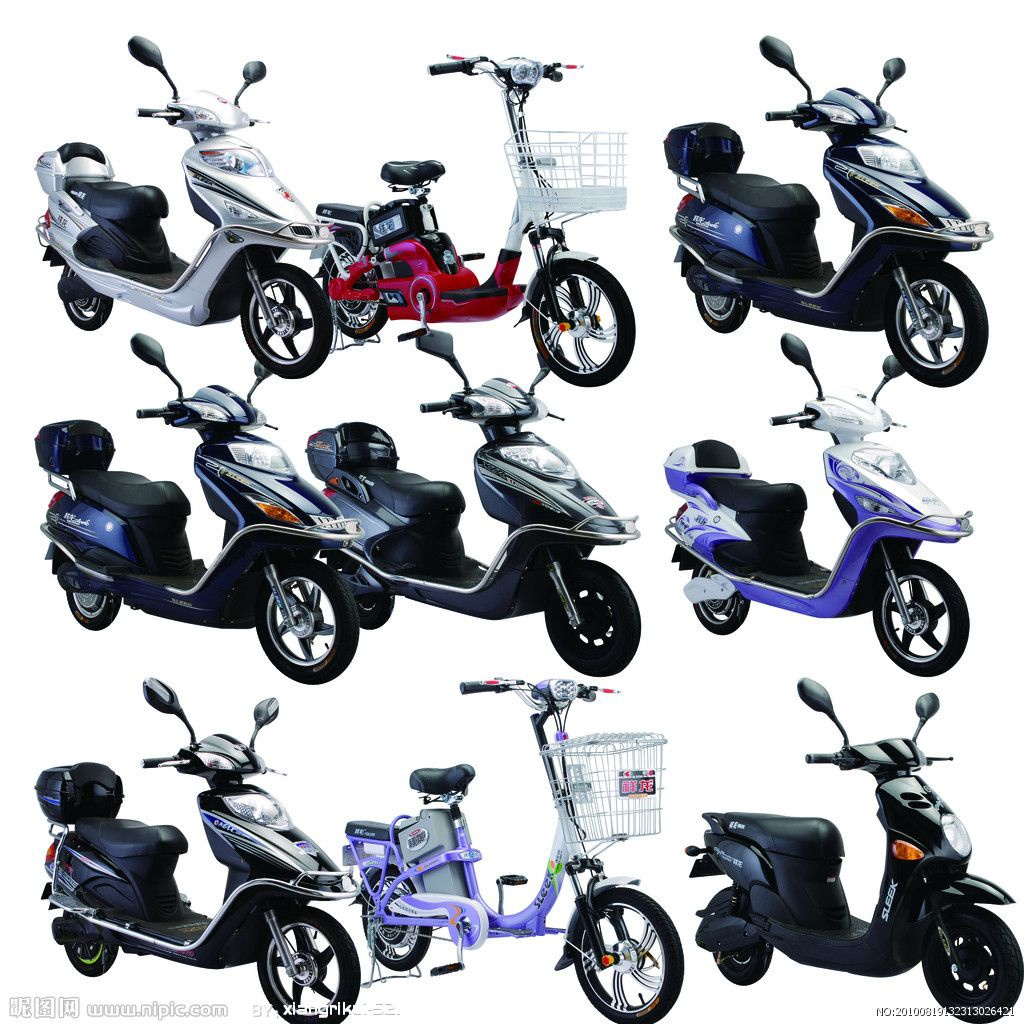non-vehicle: (341, 668, 682, 1024), (661, 31, 988, 399), (645, 333, 983, 680), (21, 678, 355, 1024), (27, 341, 359, 682), (696, 678, 1020, 1024), (313, 340, 639, 683), (316, 43, 632, 390), (23, 34, 331, 384)
